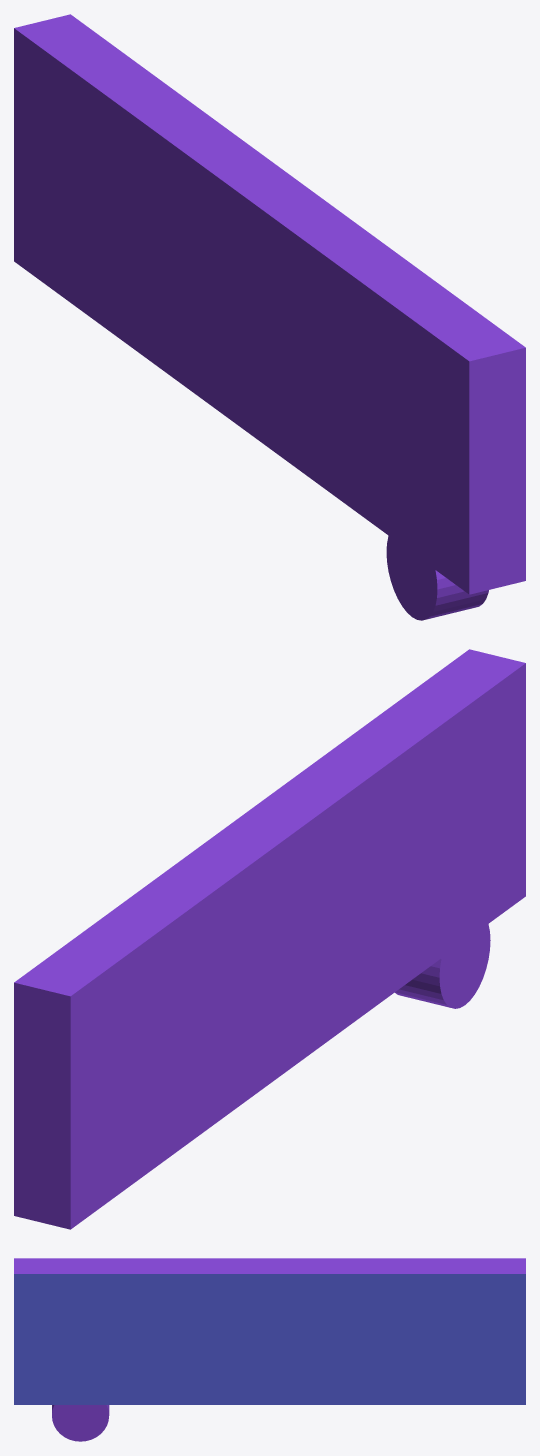
The model's file is startblock.fbx.
The picture shows the model from 3 angles, top to bottom: view 1: azimuth 30°, elevation 25°; view 2: azimuth 150°, elevation 25°; view 3: azimuth 270°, elevation 25°; orthographic projection. The views are drawn at different scales.
Visible parts, largest first — view 1: Cube.002; view 2: Cube.002; view 3: Cube.002.
Boxes of the visible parts, bbox=[...] form: Cube.002: bbox=[14, 14, 525, 620]; Cube.002: bbox=[14, 649, 525, 1229]; Cube.002: bbox=[14, 1258, 525, 1441].
Bounding box in the file's own units: 39.51 × 200 × 551.
